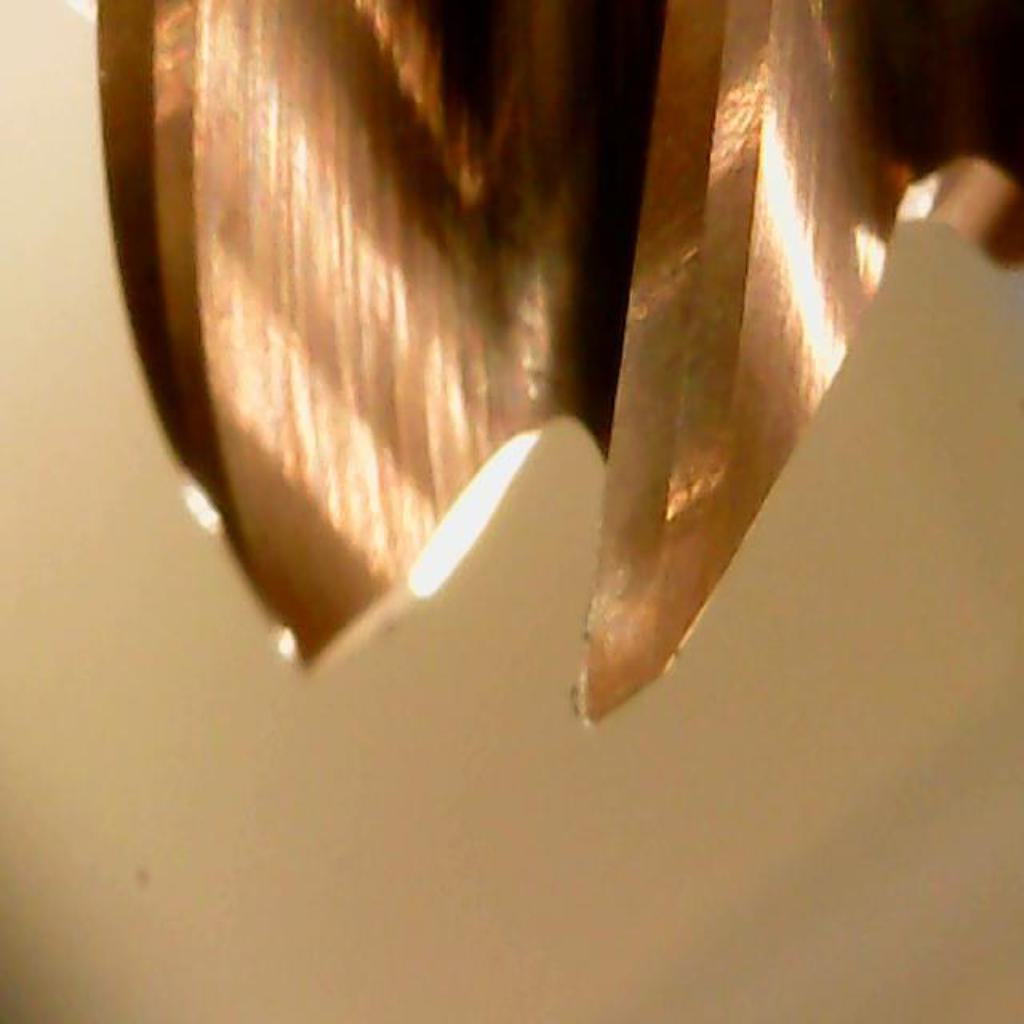Tool-wear-class-0: (567, 212, 759, 740)
